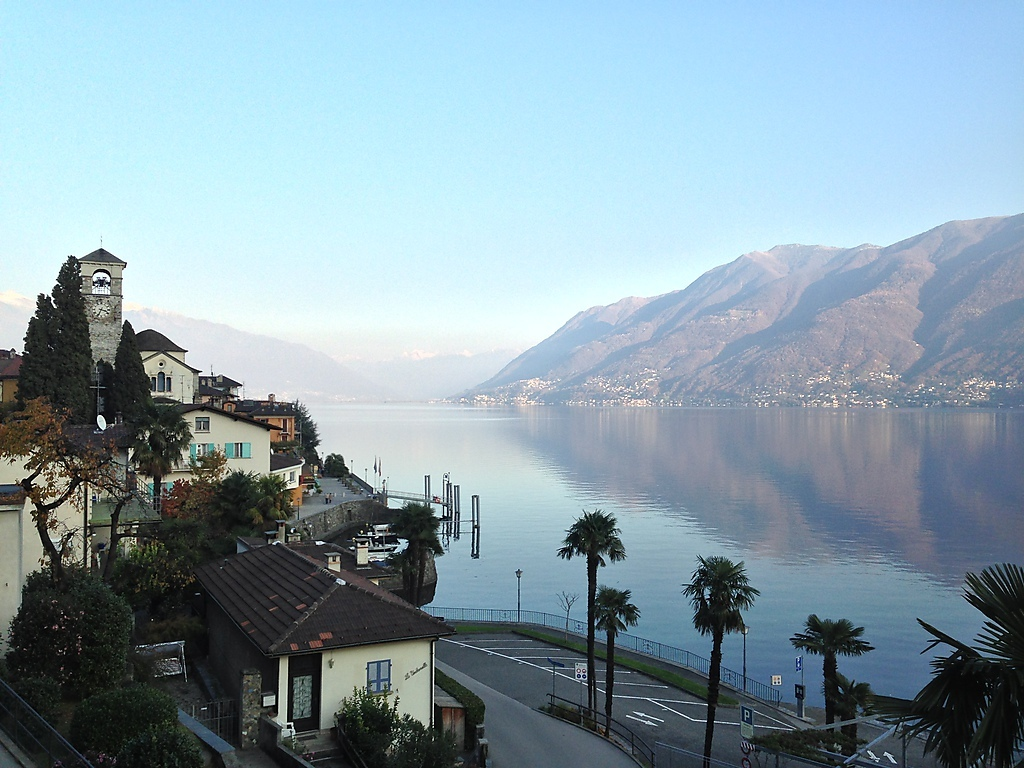Tree: (0, 251, 284, 767), (910, 563, 1022, 767), (677, 553, 755, 767), (558, 503, 627, 730), (787, 612, 876, 756), (330, 683, 462, 765), (590, 585, 641, 742), (396, 503, 439, 601), (828, 672, 876, 754), (296, 406, 325, 463), (318, 446, 352, 478)
